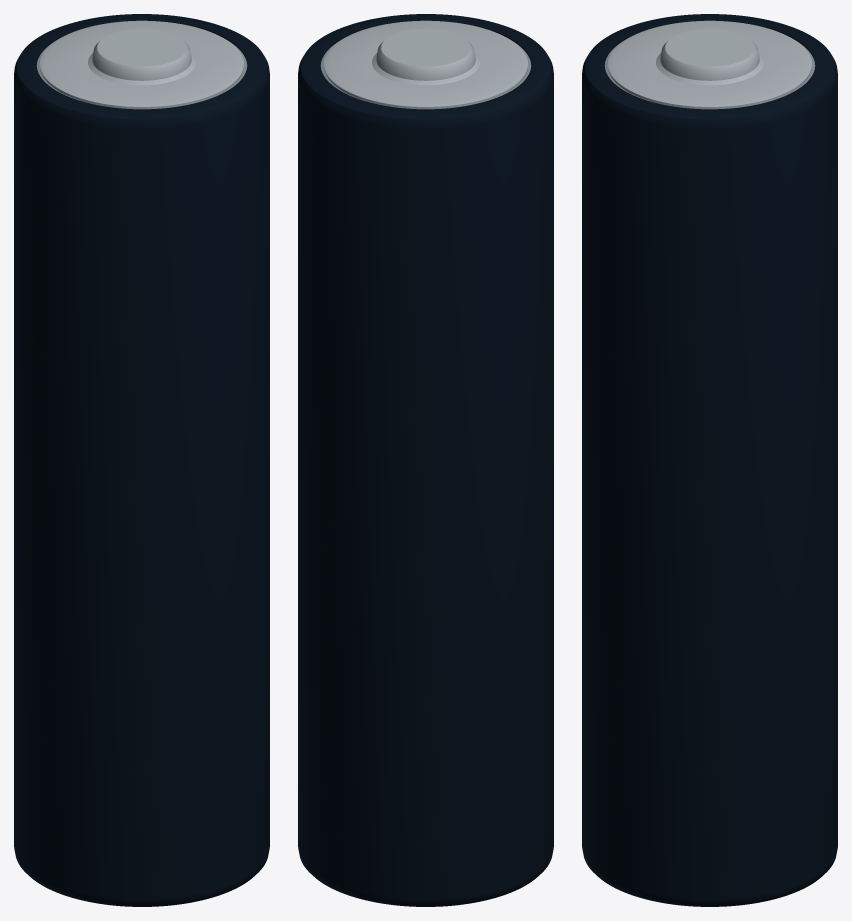
3 renders of one model, left to right at view 1: azimuth 30°, elevation 25°; view 2: azimuth 150°, elevation 25°; view 3: azimuth 270°, elevation 25°, orthographic.
Parts seen in each view (by area): view 1: part_004_outer_sleeve, part_003_positive_terminal; view 2: part_004_outer_sleeve, part_003_positive_terminal; view 3: part_004_outer_sleeve, part_003_positive_terminal.
Part boxes in pixels (x1,y1,x2,y2): part_004_outer_sleeve: [14, 14, 269, 906]; part_003_positive_terminal: [40, 20, 243, 109]; part_004_outer_sleeve: [298, 14, 553, 906]; part_003_positive_terminal: [324, 20, 527, 109]; part_004_outer_sleeve: [582, 14, 837, 906]; part_003_positive_terminal: [608, 20, 811, 109].
Size of the model in its own units: 0.0143 by 0.0502 by 0.0143.
